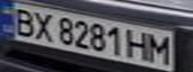1: (106, 25, 127, 56)
2: (69, 18, 90, 51)
8: (51, 15, 75, 46), (87, 20, 106, 53)
B: (6, 6, 39, 37)
H: (124, 28, 151, 61)
M: (145, 31, 175, 64)
X: (30, 10, 57, 42)
